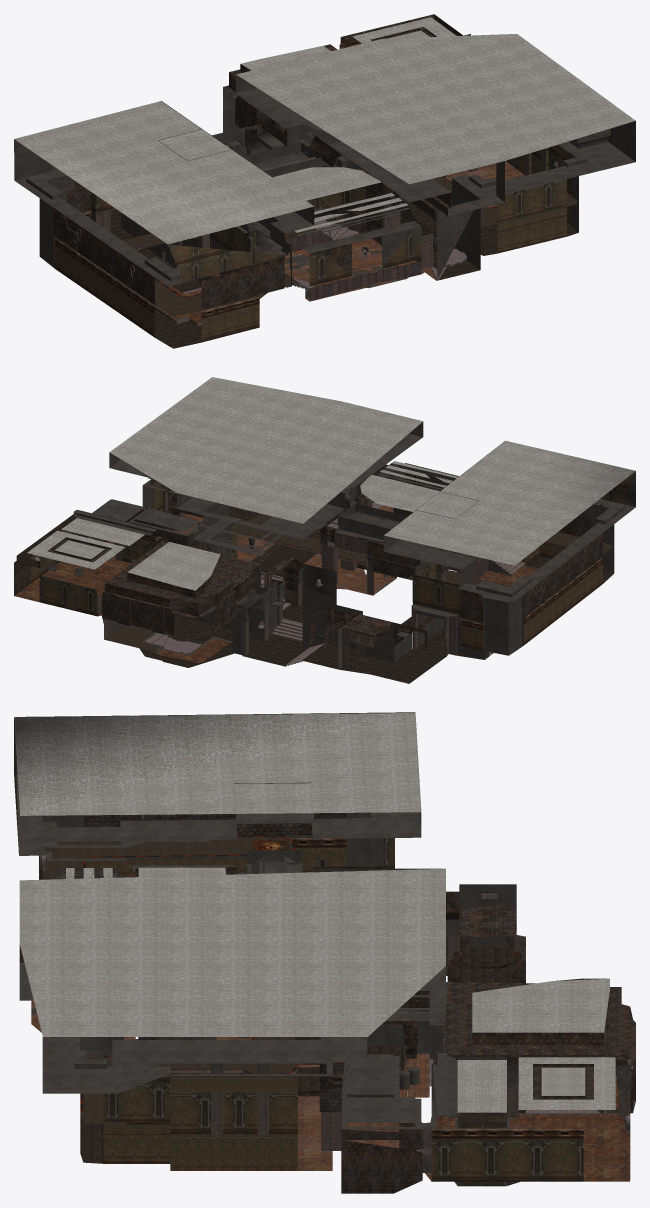
The model's file is World.FBX.
The picture shows the model from 3 angles, top to bottom: view 1: azimuth 30°, elevation 25°; view 2: azimuth 150°, elevation 25°; view 3: azimuth 270°, elevation 25°; orthographic projection. The views are drawn at different scales.
Visible parts, largest first — view 1: room0; view 2: room0; view 3: room0.
Part boxes in pixels (x1,y1,x2,y2): room0: [14, 14, 635, 348]; room0: [14, 377, 635, 683]; room0: [14, 712, 635, 1193].
Bounding box in the file's own units: 95.08 × 25.84 × 74.91.
